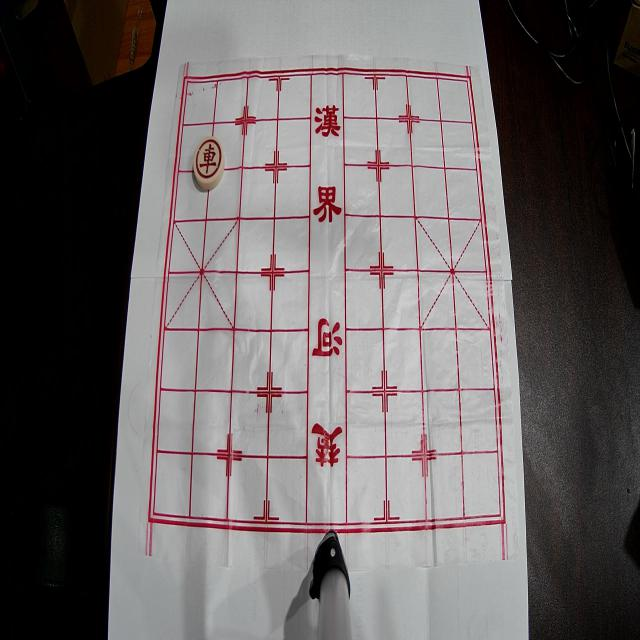red-chariot: (193, 136, 225, 190)
